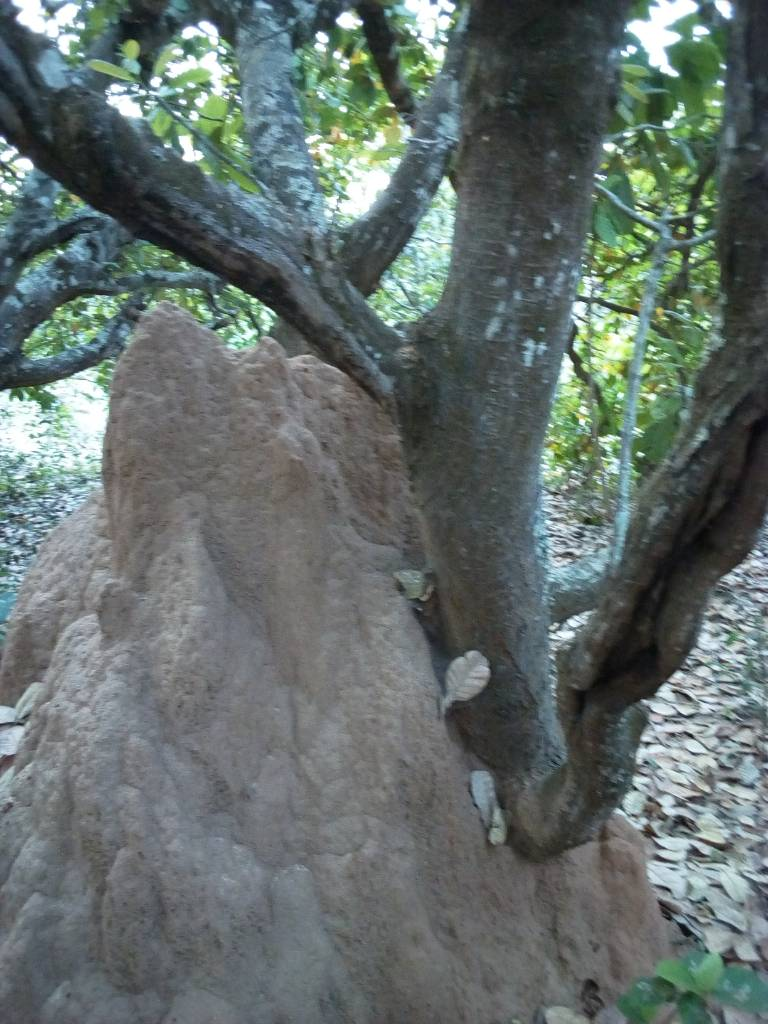Termites: (105, 313, 400, 1024), (1, 532, 104, 1024), (427, 817, 652, 1024)
